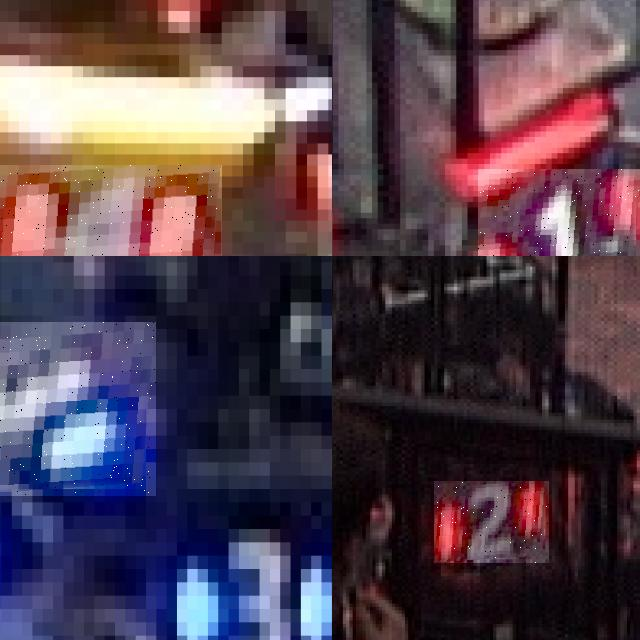B3: (114, 489, 332, 640), (0, 322, 156, 495)
R1: (478, 169, 640, 256)
R2: (434, 481, 549, 563)
R4: (0, 165, 221, 256)
